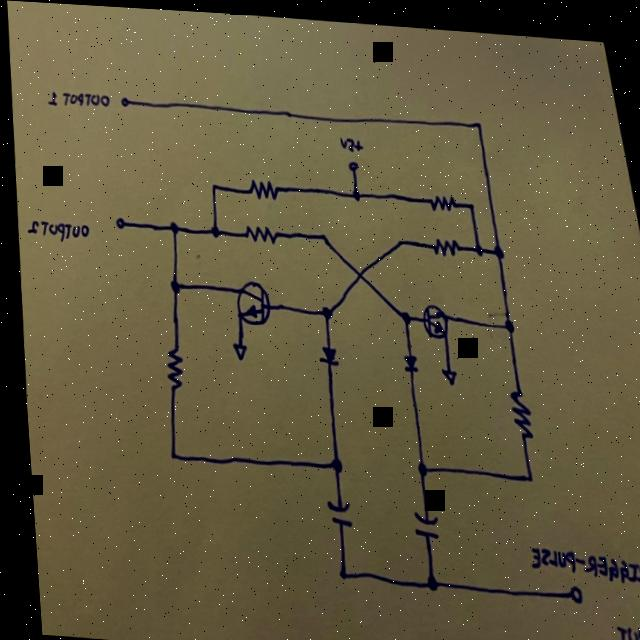capacitor: (400, 502, 435, 537), (314, 491, 347, 526)
diode: (311, 336, 335, 365), (393, 343, 414, 372)
ground: (221, 328, 246, 359), (434, 353, 455, 382)
junction: (412, 564, 432, 592), (320, 444, 338, 473), (324, 556, 345, 580), (495, 305, 514, 331), (313, 295, 333, 317), (161, 271, 179, 293), (393, 300, 410, 322), (204, 216, 220, 239), (407, 451, 424, 472), (468, 109, 485, 128), (345, 179, 361, 199), (513, 459, 529, 479), (348, 259, 363, 279), (159, 443, 174, 462), (314, 222, 328, 242), (163, 215, 177, 235), (468, 233, 482, 251), (489, 234, 502, 253), (205, 174, 216, 190), (393, 228, 403, 244), (462, 191, 473, 205)
resistor: (502, 381, 530, 434), (158, 341, 180, 391), (239, 217, 279, 242), (243, 171, 279, 198), (426, 226, 458, 252), (422, 184, 455, 209)
terminal: (540, 573, 578, 602), (103, 210, 138, 231), (114, 88, 141, 107), (344, 154, 361, 174)
text: (518, 536, 640, 577), (42, 83, 110, 111), (20, 213, 87, 241), (603, 615, 640, 640), (334, 125, 362, 151)
transistor: (227, 273, 268, 324), (413, 293, 447, 334)
